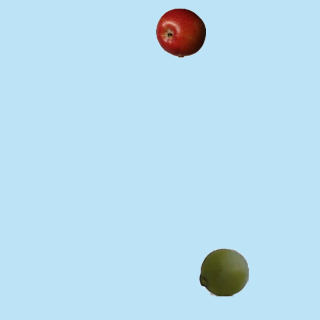Apple Braeburn: (155, 7, 205, 57)
Grape White 4: (198, 246, 248, 296)
